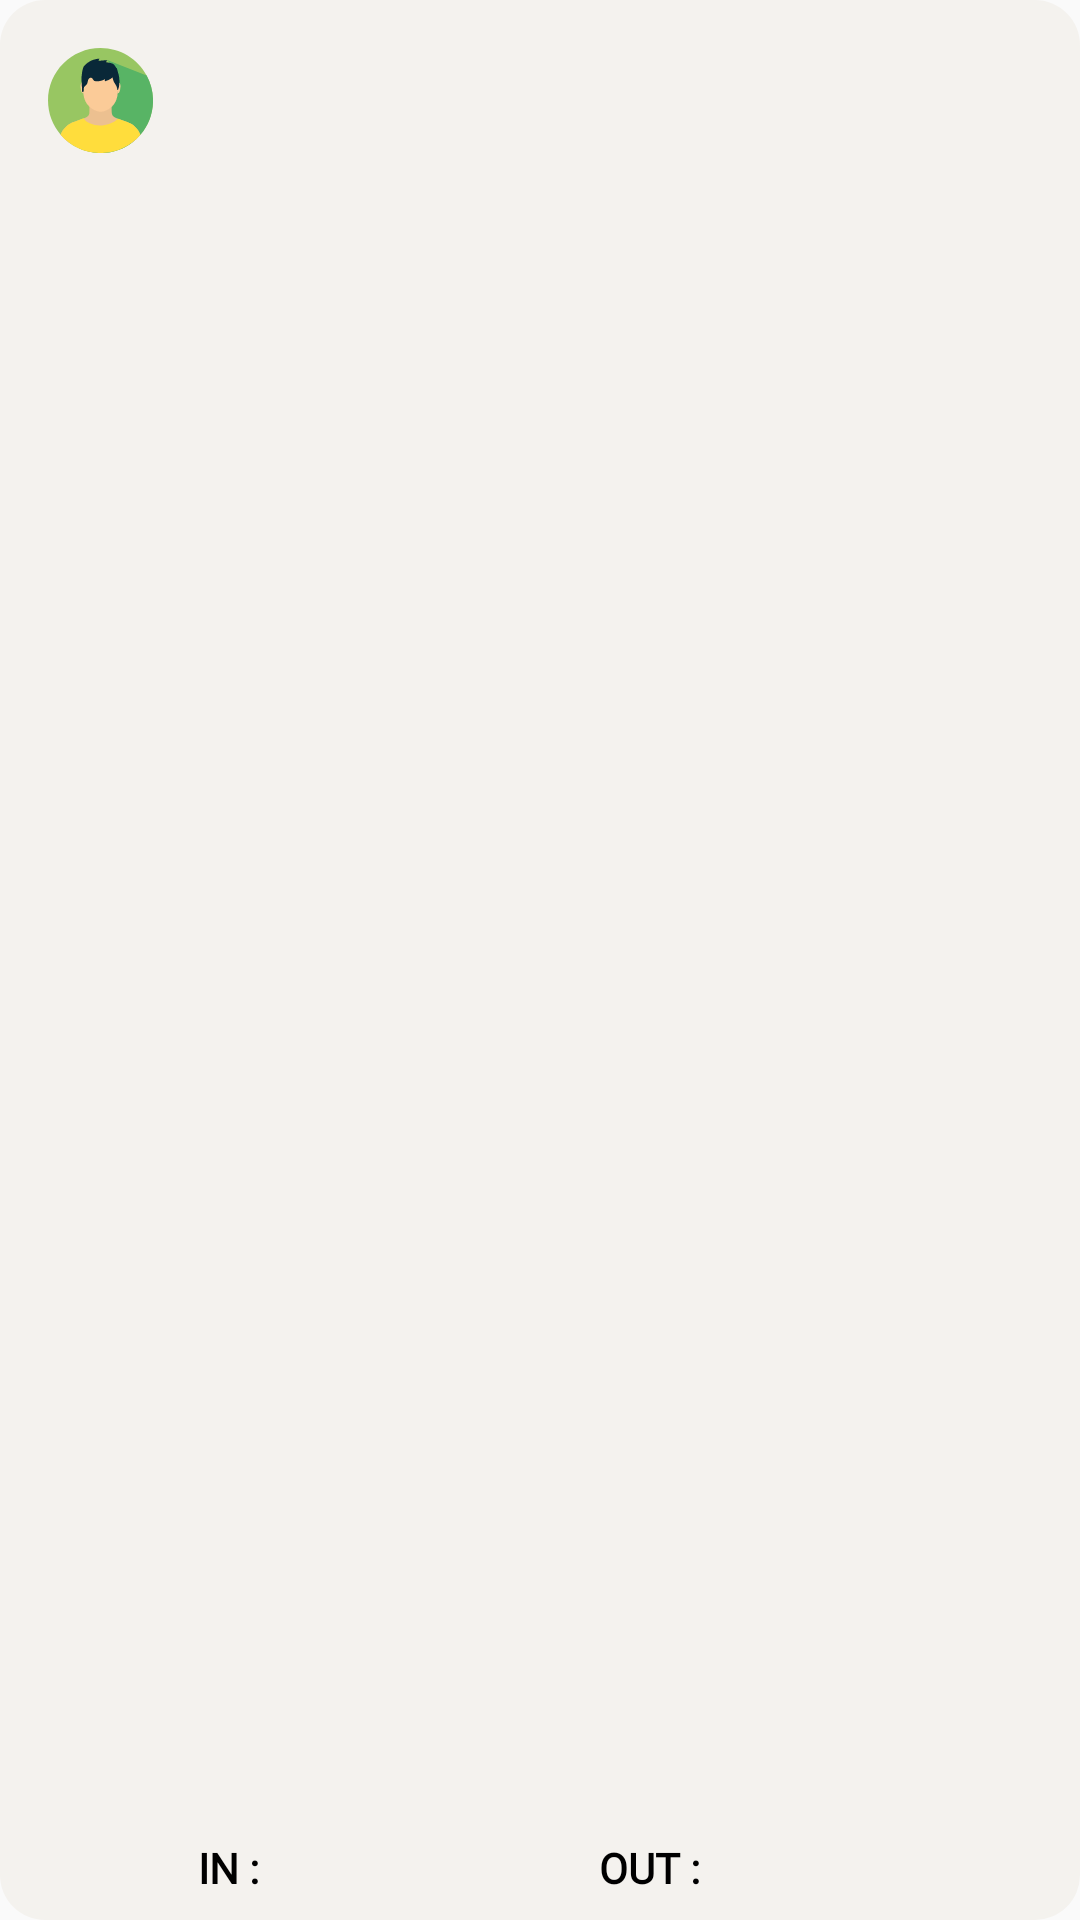

Icons on this 1080px×1920px Android screen, each with its box as [x1, y1, x2, y2]:
avtar: [48, 48, 153, 153]
